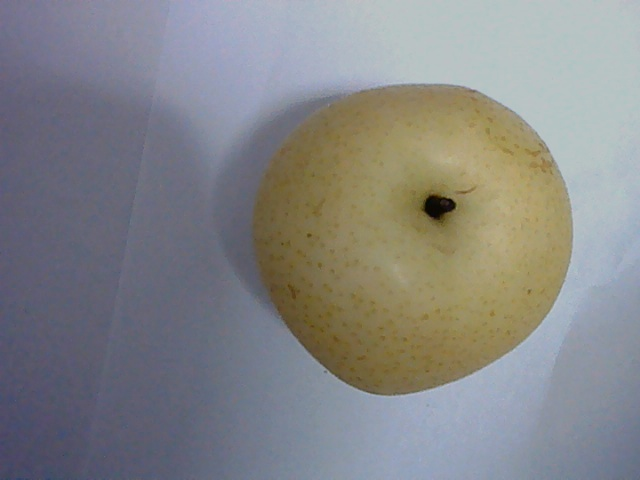pear: (258, 74, 573, 395)
